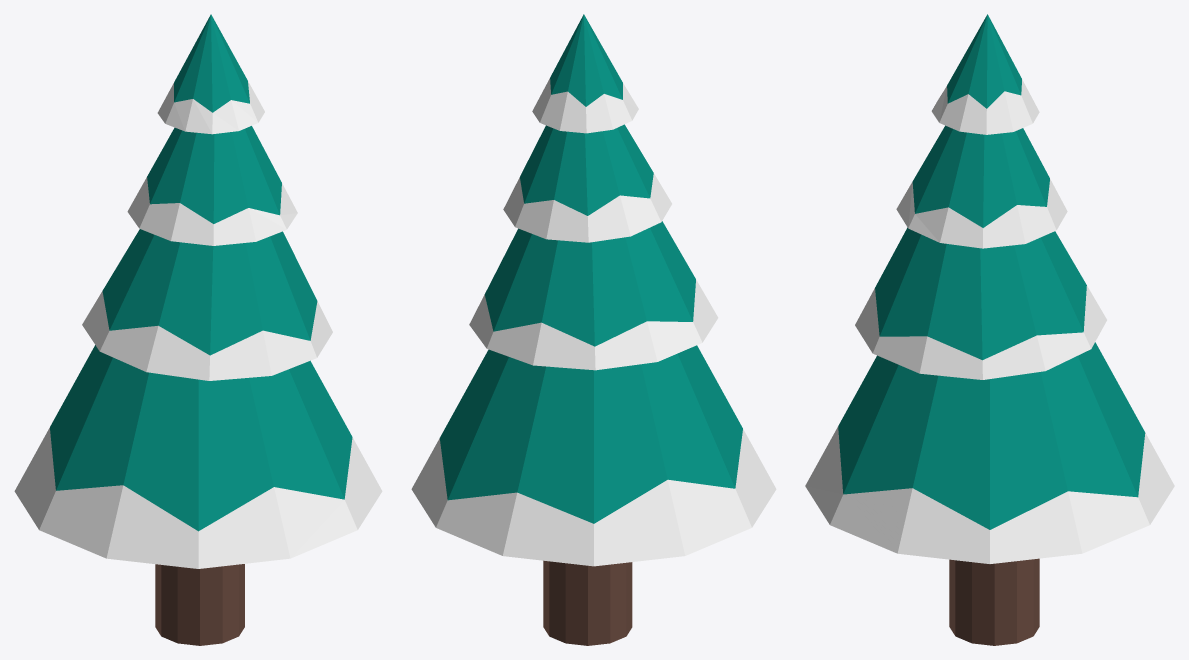
3 renders of one model, left to right at view 1: azimuth 30°, elevation 25°; view 2: azimuth 150°, elevation 25°; view 3: azimuth 270°, elevation 25°, orthographic.
Visible parts, largest first — view 1: mesh302406045, mesh558928348, mesh1852343849, mesh116569604, mesh1839540034; view 2: mesh302406045, mesh558928348, mesh1852343849, mesh116569604, mesh1839540034; view 3: mesh302406045, mesh558928348, mesh1852343849, mesh1839540034, mesh116569604.
Part boxes in pixels (box(x1,y1,x2,y2)): mesh302406045: box(14, 345, 382, 568); mesh558928348: box(82, 229, 332, 380); mesh1852343849: box(127, 126, 297, 245); mesh116569604: box(157, 14, 264, 134); mesh1839540034: box(155, 564, 244, 645); mesh302406045: box(411, 345, 776, 566); mesh558928348: box(469, 221, 718, 370); mesh1852343849: box(503, 124, 671, 242); mesh116569604: box(532, 14, 638, 133); mesh1839540034: box(543, 560, 632, 645); mesh302406045: box(805, 342, 1174, 563); mesh558928348: box(855, 227, 1106, 379); mesh1852343849: box(896, 125, 1067, 248); mesh1839540034: box(949, 558, 1039, 645); mesh116569604: box(931, 14, 1039, 134).
Size of the model in its own units: 0.41 by 0.7544 by 0.41.
